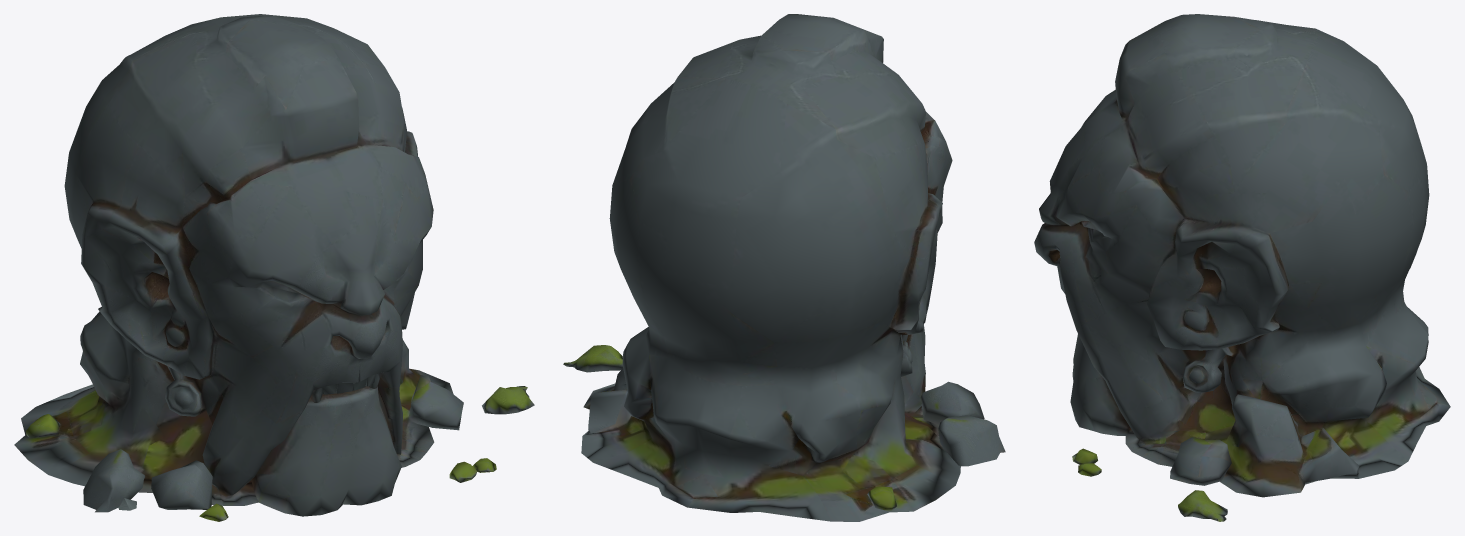
Rendered from stoneHead.glb.
3 views of the same model, side by side, from view 1: azimuth 30°, elevation 25°; view 2: azimuth 150°, elevation 25°; view 3: azimuth 270°, elevation 25° (orthographic). The views are drawn at different scales.
Bounding box in the file's own units: 0.9175 × 0.8076 × 0.7974.
Materials: 1 (1 with a texture image).
